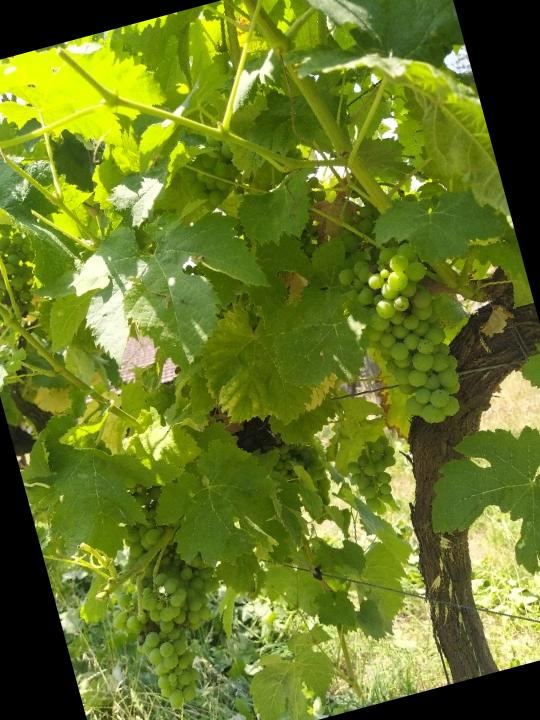grape: (332, 236, 474, 441), (101, 566, 217, 720)
